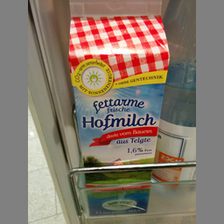milk: (65, 2, 171, 218)
